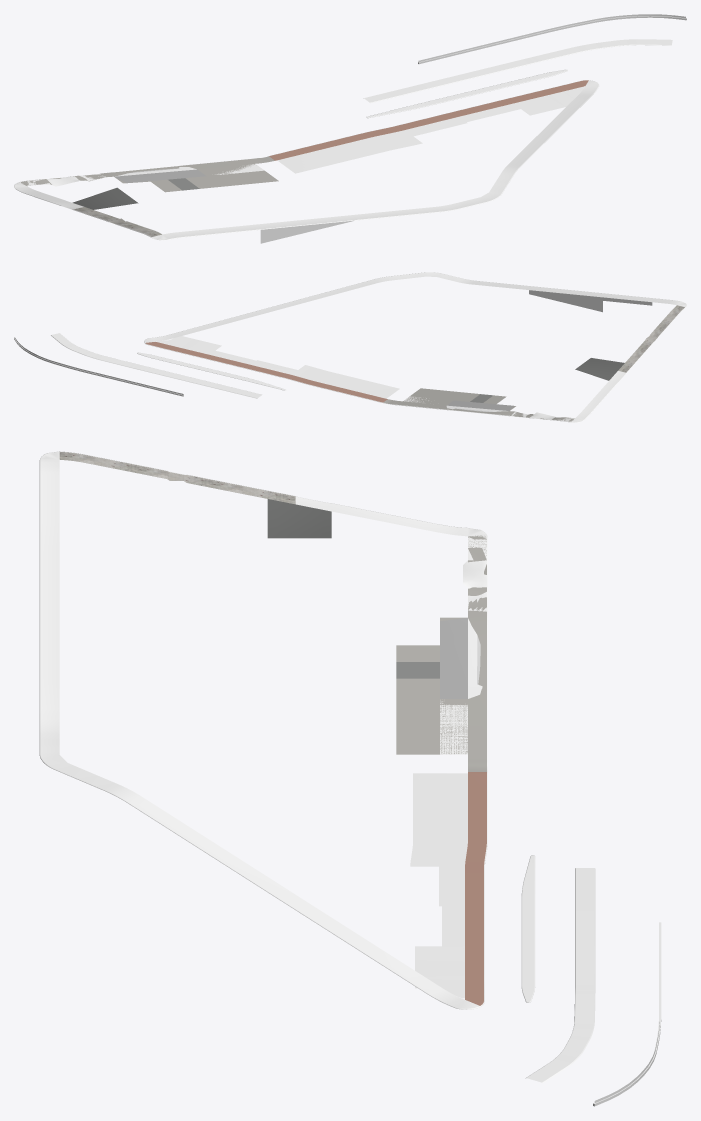
File: sidewalk_policestation.dae
3 renders of one model, top to bottom at view 1: azimuth 30°, elevation 25°; view 2: azimuth 150°, elevation 25°; view 3: azimuth 270°, elevation 25°, orthographic. The views are drawn at different scales.
Visible parts, largest first — view 1: Colmesh-1, sidewalk_policestation_a2000; view 2: Colmesh-1, sidewalk_policestation_a2000; view 3: Colmesh-1, sidewalk_policestation_a2000.
Part boxes in pixels (left/top/right/bottom): Colmesh-1: left=14, top=14, right=686, bottom=243; sidewalk_policestation_a2000: left=21, top=80, right=588, bottom=209; Colmesh-1: left=14, top=272, right=686, bottom=422; sidewalk_policestation_a2000: left=145, top=342, right=624, bottom=421; Colmesh-1: left=39, top=451, right=661, bottom=1106; sidewalk_policestation_a2000: left=267, top=499, right=486, bottom=1005.
Bounding box in the file's own units: 274 × 137 × 31.83.
